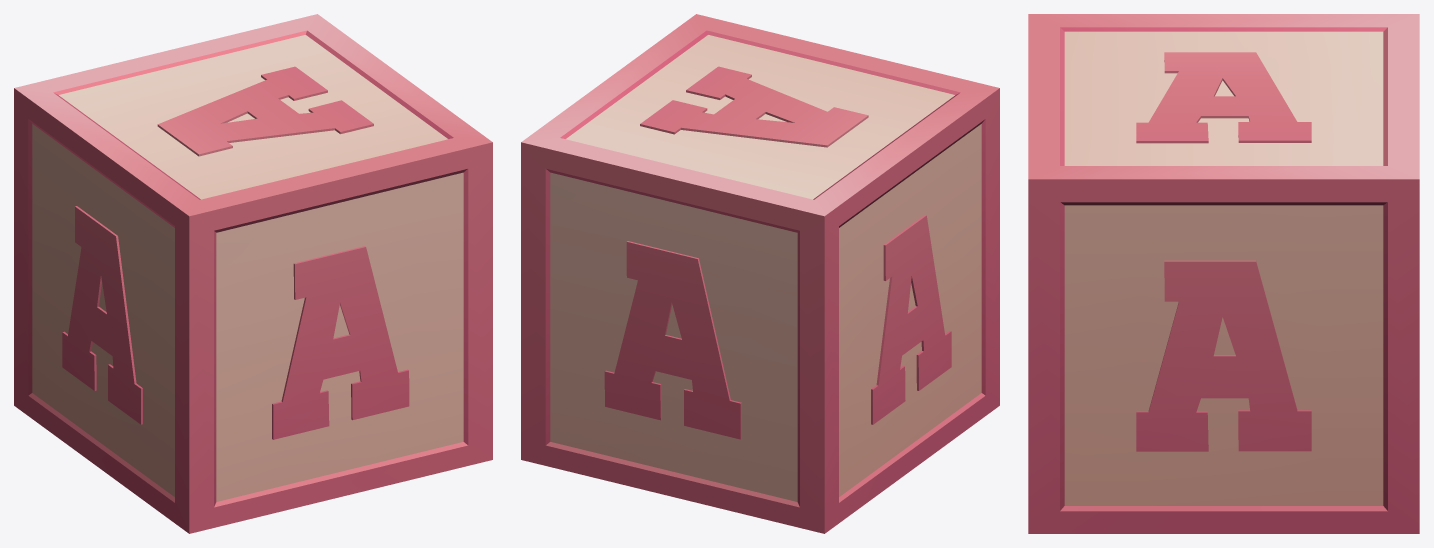
The model's file is Doll_OB_Blocks_001.FBX.
3 views of the same model, side by side, from view 1: azimuth 30°, elevation 25°; view 2: azimuth 150°, elevation 25°; view 3: azimuth 270°, elevation 25° (orthographic). The views are drawn at different scales.
Visible parts, largest first — view 1: Doll_OB_Blocks_001; view 2: Doll_OB_Blocks_001; view 3: Doll_OB_Blocks_001.
Part boxes in pixels (x1=…): Doll_OB_Blocks_001: x1=14, y1=14, x2=492, y2=533; Doll_OB_Blocks_001: x1=521, y1=14, x2=999, y2=533; Doll_OB_Blocks_001: x1=1028, y1=14, x2=1419, y2=533.
Bounding box in the file's own units: 20.68 × 20.67 × 20.68.
